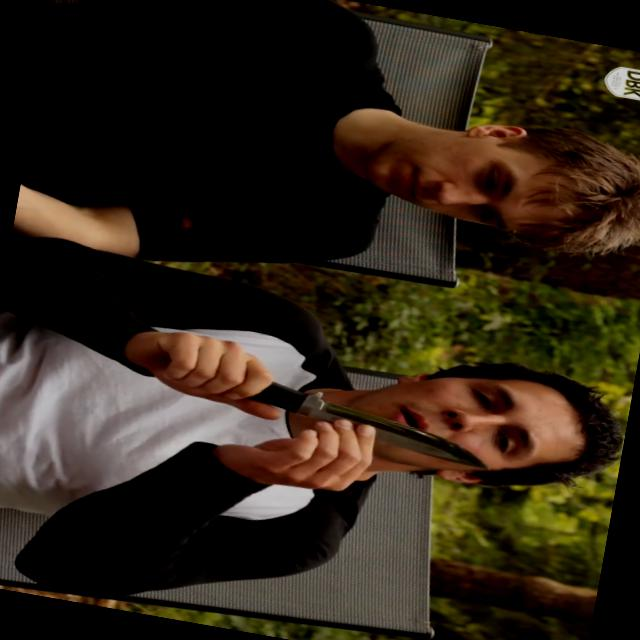knife: (188, 349, 516, 482)
